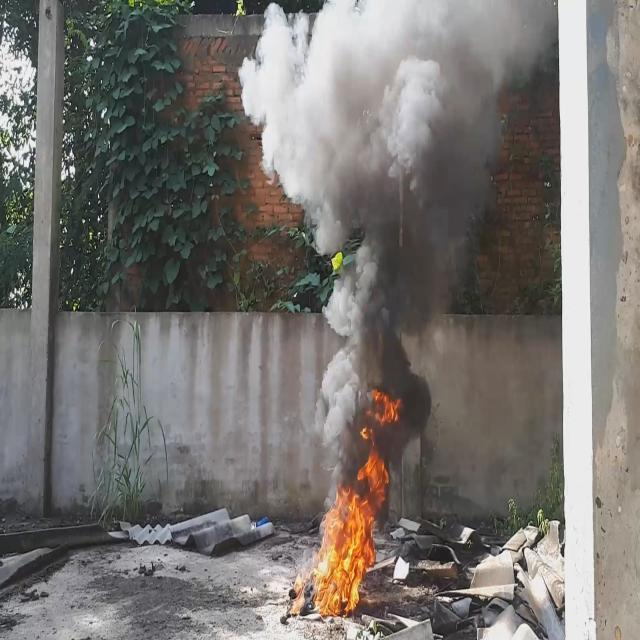Fire: (288, 387, 402, 618)
Smoke: (235, 0, 559, 487)
